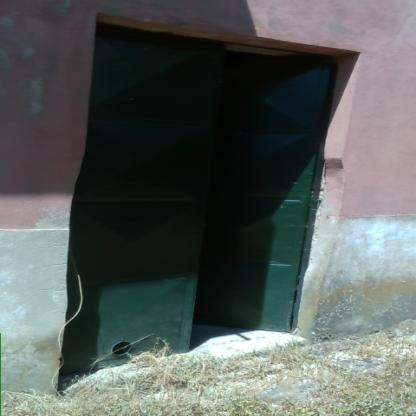semi: (70, 20, 360, 359)
